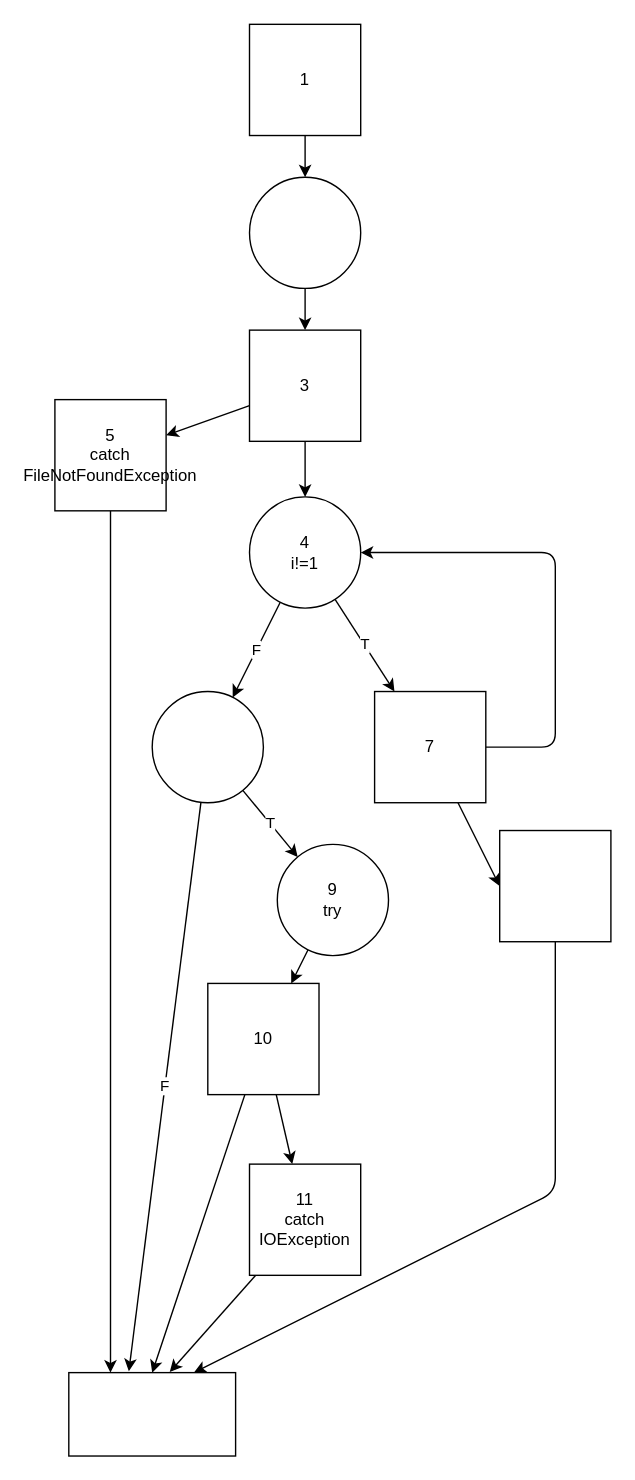
Image size: 635x1480. Some labels were removed from this diagram. Here are the shapes that lost their labels. From the top down, the centre of each, then its label:
At point 304,232: "2 try".
At point 207,746: "6 fichero!=null".
At point 554,885: "8 catch IOException".
At point 151,1413: "12 return".
